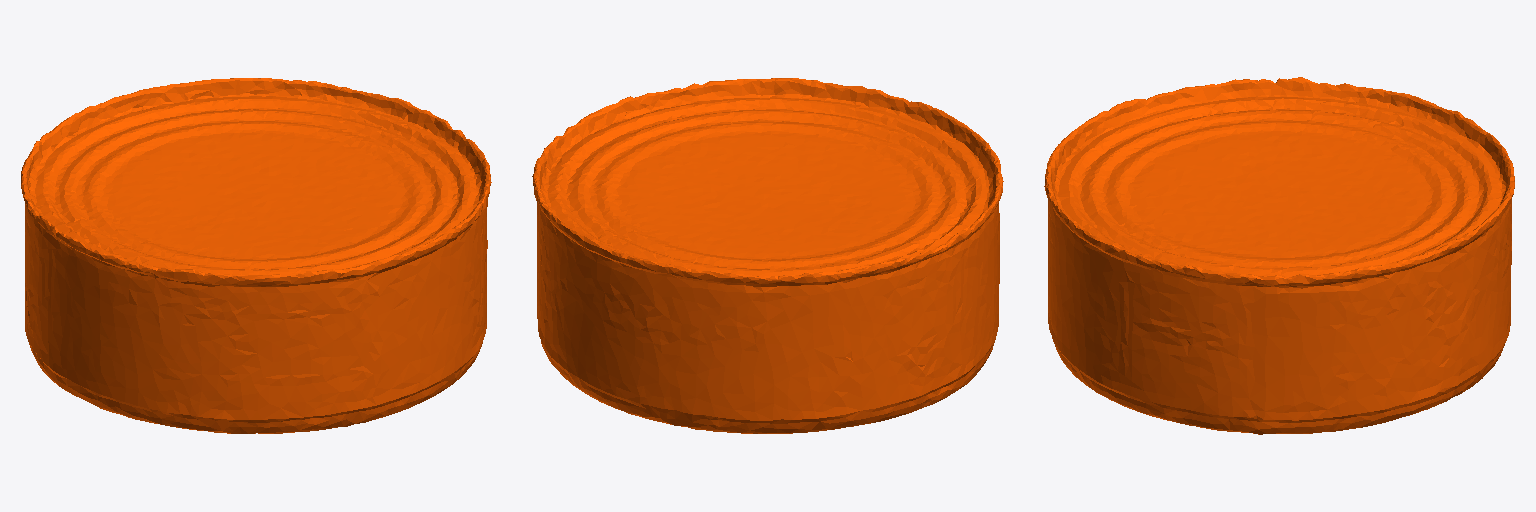
robot.urdf — 007_tuna_fish_can:
<?xml version="1.0" ?>
<robot name="007_tuna_fish_can">
   <material name="obj_color">
      <color rgba="1.0 0.423529411765 0.0392156862745 1.0"/>
   </material>
   <link name="top">
      <inertial>
         <origin rpy="0.0001558546053615775 0.0001560403648799692 0.0002732494558437781" xyz="0.0004706586212476785 -5.251970134494094e-05 -0.002170391747825713"/>
         <mass value="0.2991329169910324"/>
         <inertia ixx="0.0001558647320834391" ixy="4.216453905575876e-08" ixz="2.421838800549881e-08" iyy="0.000156030243387868" iyz="5.218638736604082e-09" izz="0.0002732494506140178"/>
      </inertial>
      <visual>
         <origin rpy="0 0 0" xyz="0 0 0"/>
         <geometry>
            <mesh filename="top_watertight_tiny.stl" scale="1 1 1"/>
         </geometry>
         <material name="obj_color"/>
      </visual>
      <collision>
         <origin rpy="0 0 0" xyz="0 0 0"/>
         <geometry>
            <mesh filename="top_watertight_tiny.obj" scale="1 1 1"/>
         </geometry>
      </collision>
   </link>
   <link name="bottom">
      <inertial>
         <origin rpy="1.633333333199431e-08 1.633333333199431e-08 1.633333333362855e-08" xyz="0.3464080000000008 0.3464080000000008 0.3464080000000008"/>
         <mass value="0.0009800000000000017"/>
         <inertia ixx="1.633333333253906e-08" ixy="5.447480642029219e-19" ixz="5.447480642029219e-19" iyy="1.633333333253906e-08" iyz="5.447480642029219e-19" izz="1.633333333253906e-08"/>
      </inertial>
      <visual>
         <origin rpy="0 0 0" xyz="0 0 0"/>
         <geometry>
            <mesh filename="bottom_watertight_tiny.stl" scale="1 1 1"/>
         </geometry>
         <material name="obj_color"/>
      </visual>
   </link>
   <link name="world"/>
   <joint name="world_to_base" type="fixed">
      <origin xyz="0 0 0"/>
      <axis xyz="0 0 0"/>
      <parent link="world"/>
      <child link="bottom"/>
   </joint>
   <joint name="rotation" type="revolute">
      <origin xyz="0 0 0"/>
      <axis xyz="0 0 -1"/>
      <parent link="bottom"/>
      <child link="top"/>
      <dynamics damping="1.0" friction="1.0"/>
      <limit effort="0.1" velocity="0.1" lower="0" upper="0.001"/>
   </joint>
</robot>

--- What the picture shows (computed from the rendered views, not written in the file) ---
The picture shows the robot from 3 angles, left to right: view 1: azimuth 30°, elevation 25°; view 2: azimuth 150°, elevation 25°; view 3: azimuth 270°, elevation 25°; orthographic projection.
Robot: 007_tuna_fish_can — 3 links, 2 joints (1 revolute, 1 fixed); root link world; default pose: all joints at 0.
Links seen in each view (by area): view 1: top; view 2: top; view 3: top.
Boxes of the visible links, left/top/right/bottom form: top: left=21, top=78, right=491, bottom=433; top: left=532, top=78, right=1003, bottom=433; top: left=1044, top=77, right=1514, bottom=434.
Bounding box of the posed robot: 0.0856 × 0.0855 × 0.0335 m (x, y, z).
1 mesh visuals loaded from 2 distinct referenced files (1 binary STL); not drawn: 1 (reference not matched to a file when rendering).
